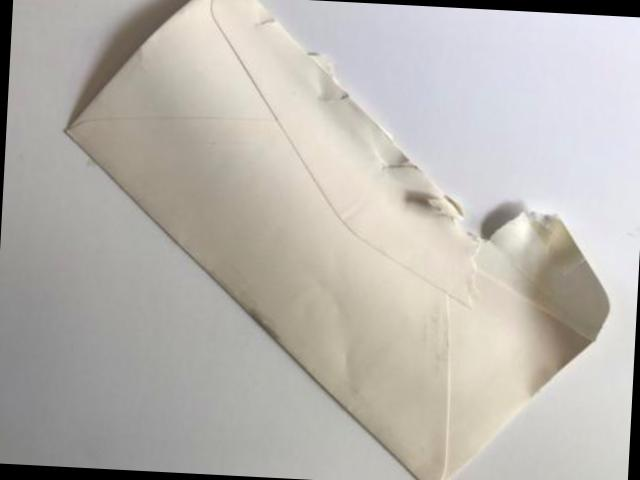cardboard paper: (69, 0, 609, 480)
